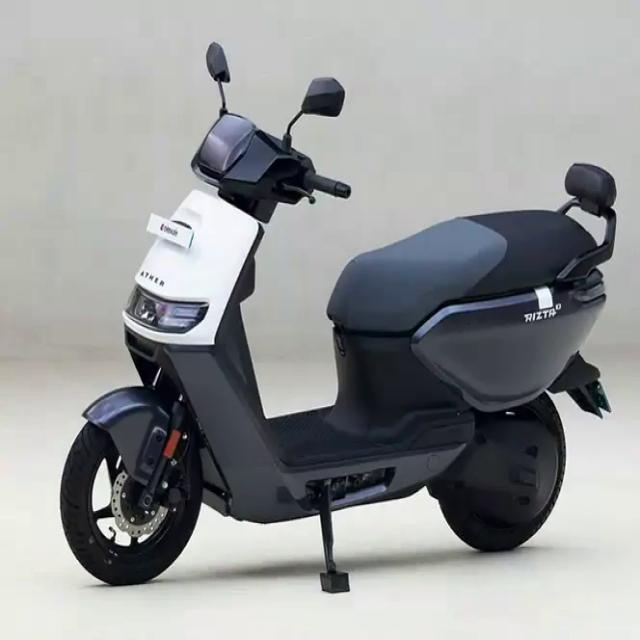objects: (51, 32, 640, 640)
